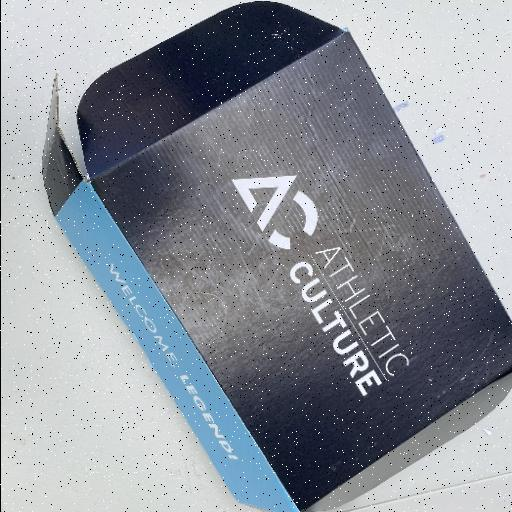Cardboard: (42, 2, 511, 509)
